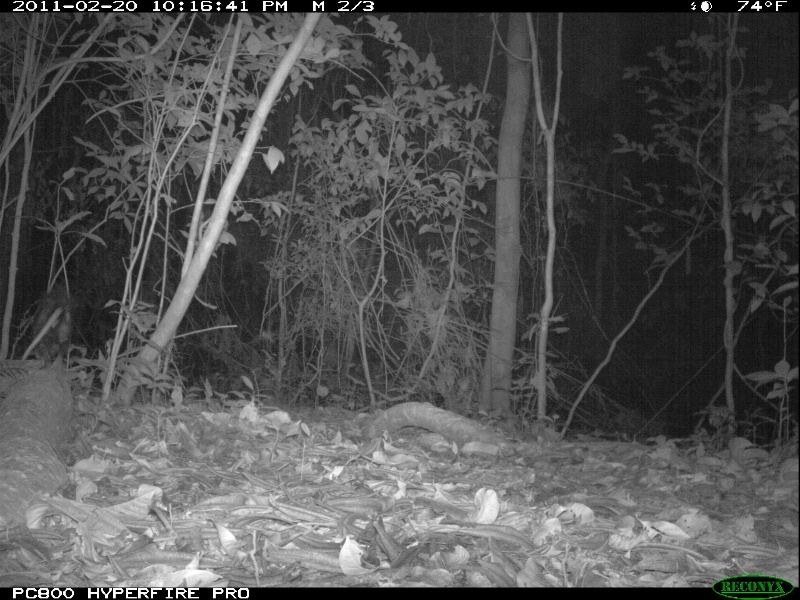opossum: (17, 294, 77, 371)
